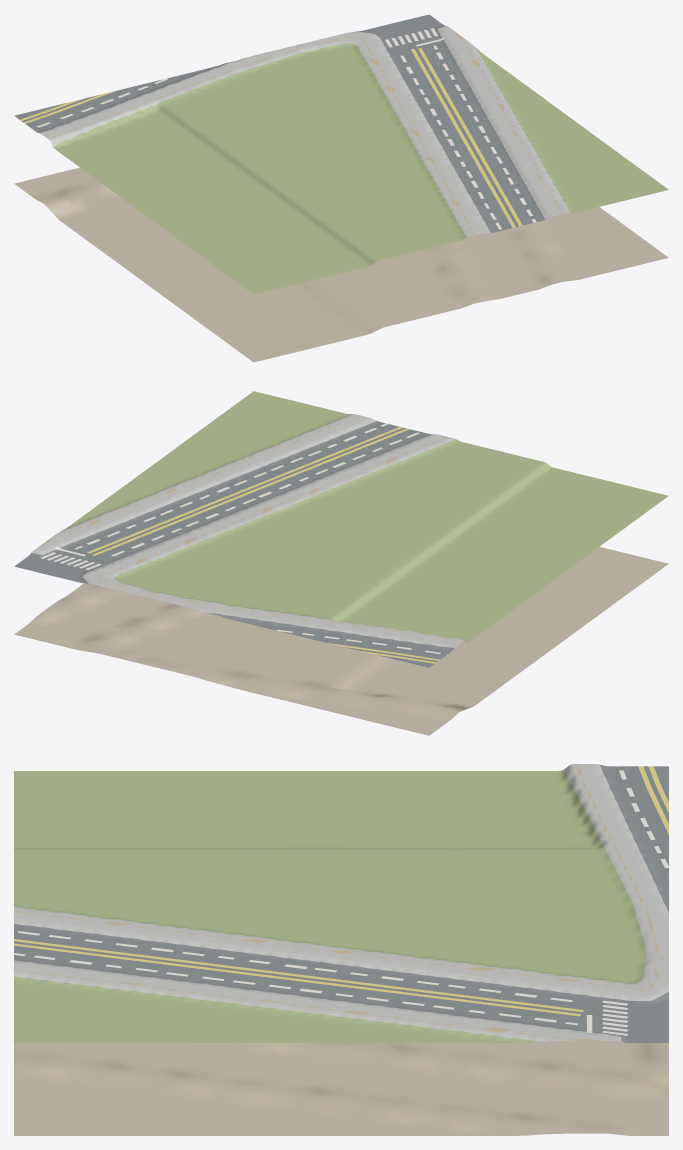
3 views of the same model, one above another, from view 1: azimuth 30°, elevation 25°; view 2: azimuth 150°, elevation 25°; view 3: azimuth 270°, elevation 25° (orthographic). The views are drawn at different scales.
Parts seen in each view (by area): view 1: s_-3_-3__grass, s_-3_-3__soil, s_-3_-3__stone_paving, s_-3_-3__asphalt, s_-3_-3__yellow_marking, s_-3_-3__white_marking, s_-3_-3__timber_deck; view 2: s_-3_-3__grass, s_-3_-3__soil, s_-3_-3__stone_paving, s_-3_-3__asphalt, s_-3_-3__yellow_marking, s_-3_-3__white_marking, s_-3_-3__timber_deck; view 3: s_-3_-3__grass, s_-3_-3__soil, s_-3_-3__stone_paving, s_-3_-3__asphalt, s_-3_-3__yellow_marking, s_-3_-3__white_marking, s_-3_-3__timber_deck.
Boxes of the visible parts, x1,y1,x2,y2 form: s_-3_-3__grass: [53, 43, 668, 294]; s_-3_-3__soil: [14, 167, 668, 362]; s_-3_-3__stone_paving: [40, 26, 570, 237]; s_-3_-3__asphalt: [14, 14, 544, 232]; s_-3_-3__yellow_marking: [20, 48, 522, 227]; s_-3_-3__white_marking: [32, 28, 536, 229]; s_-3_-3__timber_deck: [47, 32, 563, 235]; s_-3_-3__grass: [62, 391, 668, 641]; s_-3_-3__soil: [14, 547, 668, 735]; s_-3_-3__stone_paving: [32, 414, 464, 647]; s_-3_-3__asphalt: [14, 421, 454, 667]; s_-3_-3__yellow_marking: [87, 427, 439, 663]; s_-3_-3__white_marking: [40, 423, 447, 654]; s_-3_-3__timber_deck: [40, 415, 462, 641]; s_-3_-3__grass: [14, 770, 646, 1042]; s_-3_-3__soil: [14, 978, 668, 1135]; s_-3_-3__stone_paving: [14, 764, 668, 1041]; s_-3_-3__asphalt: [14, 764, 668, 1042]; s_-3_-3__yellow_marking: [14, 766, 668, 1016]; s_-3_-3__white_marking: [14, 766, 668, 1035]; s_-3_-3__timber_deck: [14, 764, 663, 1040].
Bounding box in the file's own units: 128 × 21.51 × 128.
